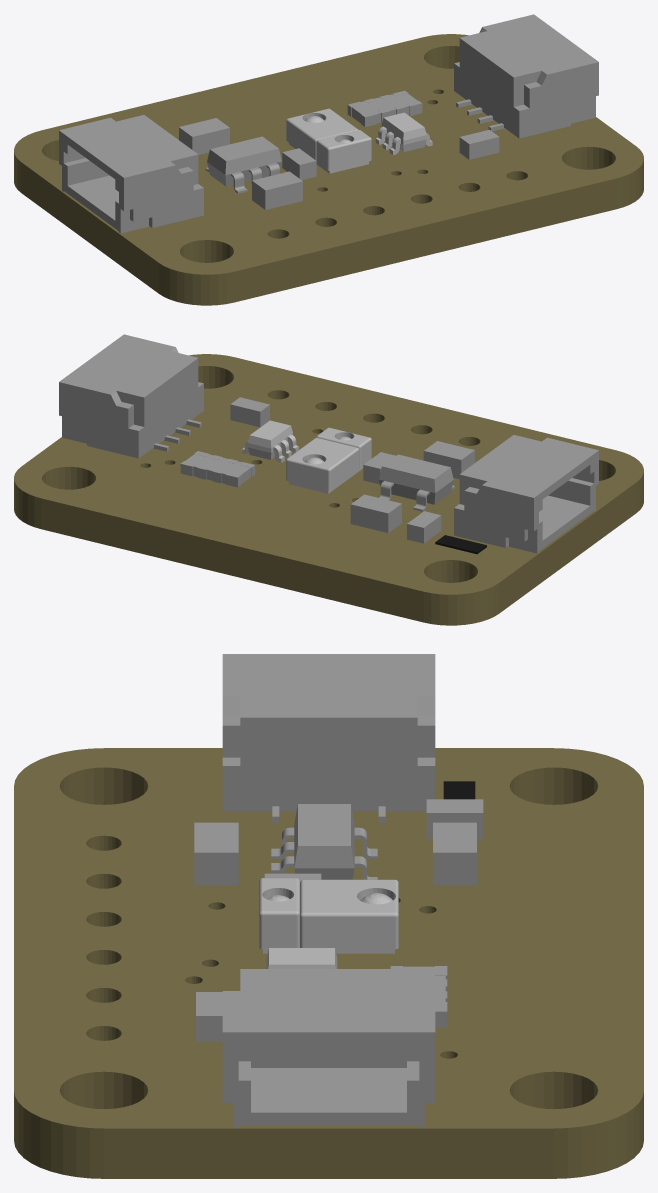
The model's file is adafruit-3595-apds9960.glb.
The picture shows the model from 3 angles, top to bottom: view 1: azimuth 30°, elevation 25°; view 2: azimuth 150°, elevation 25°; view 3: azimuth 270°, elevation 25°; orthographic projection. The views are drawn at different scales.
Visible parts, largest first — view 1: colour 1, colour 2, colour 5, colour 3; view 2: colour 1, colour 2, colour 5, colour 3, colour 4; view 3: colour 1, colour 2, colour 5, colour 3.
Boxes of the visible parts, <box> form: colour 1: <box>14,34,643,305</box>; colour 2: <box>59,14,598,233</box>; colour 5: <box>286,108,371,173</box>; colour 3: <box>375,112,432,155</box>; colour 1: <box>14,354,643,625</box>; colour 2: <box>59,334,598,553</box>; colour 5: <box>286,427,371,493</box>; colour 3: <box>242,420,298,462</box>; colour 4: <box>435,535,486,554</box>; colour 1: <box>14,748,643,1178</box>; colour 2: <box>194,654,483,1127</box>; colour 5: <box>259,878,398,953</box>; colour 3: <box>266,948,337,968</box>.
Size of the model in its own units: 0.0254 by 0.00453 by 0.0178.
